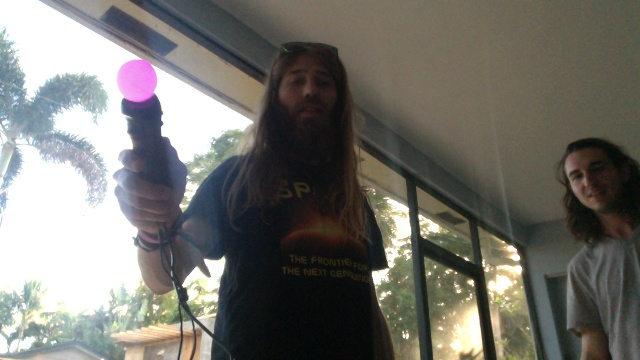wand: (118, 61, 158, 102)
